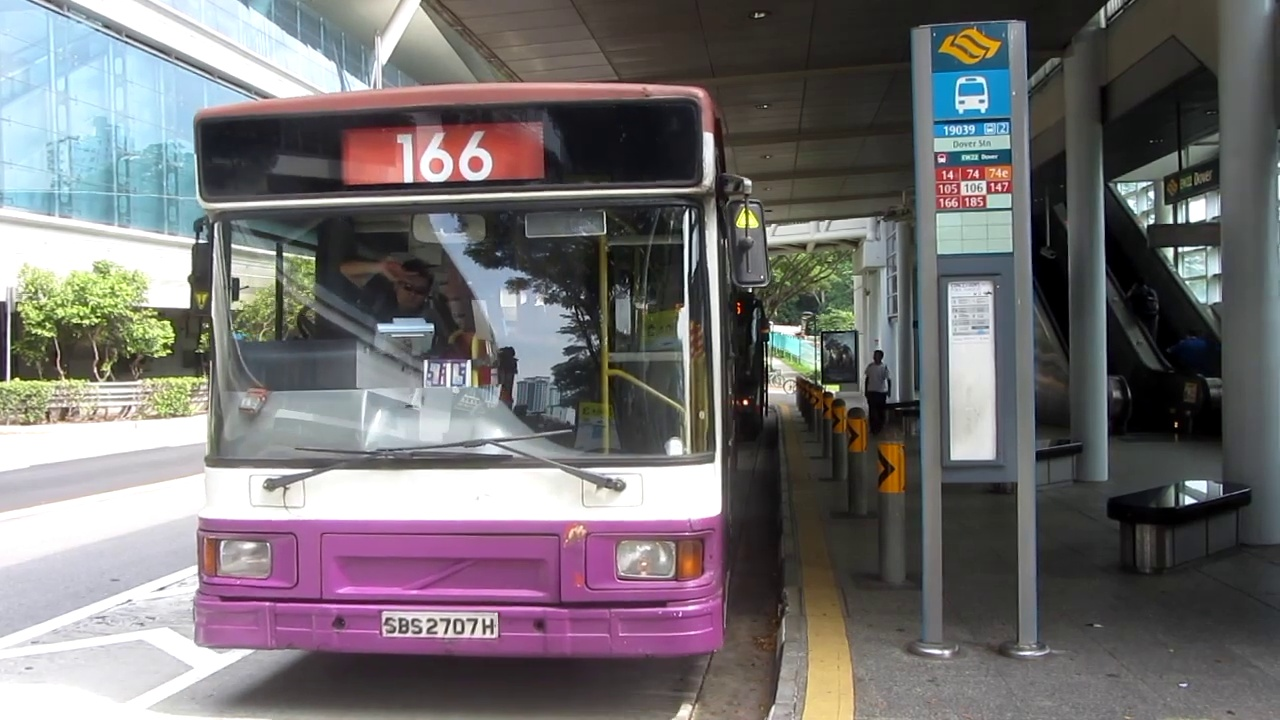bus panel: (337, 119, 549, 187)
